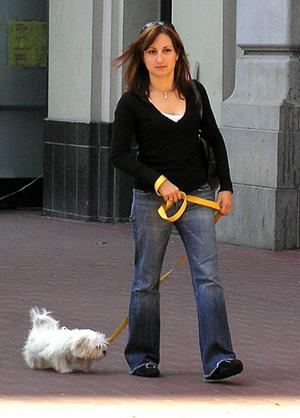person: (111, 21, 244, 378)
